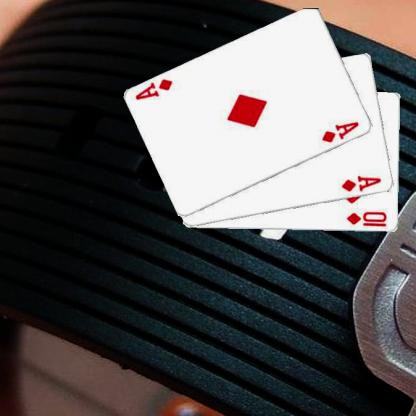10D: (346, 210, 390, 228)
AD: (321, 118, 362, 144), (134, 76, 176, 101), (340, 173, 384, 194)
